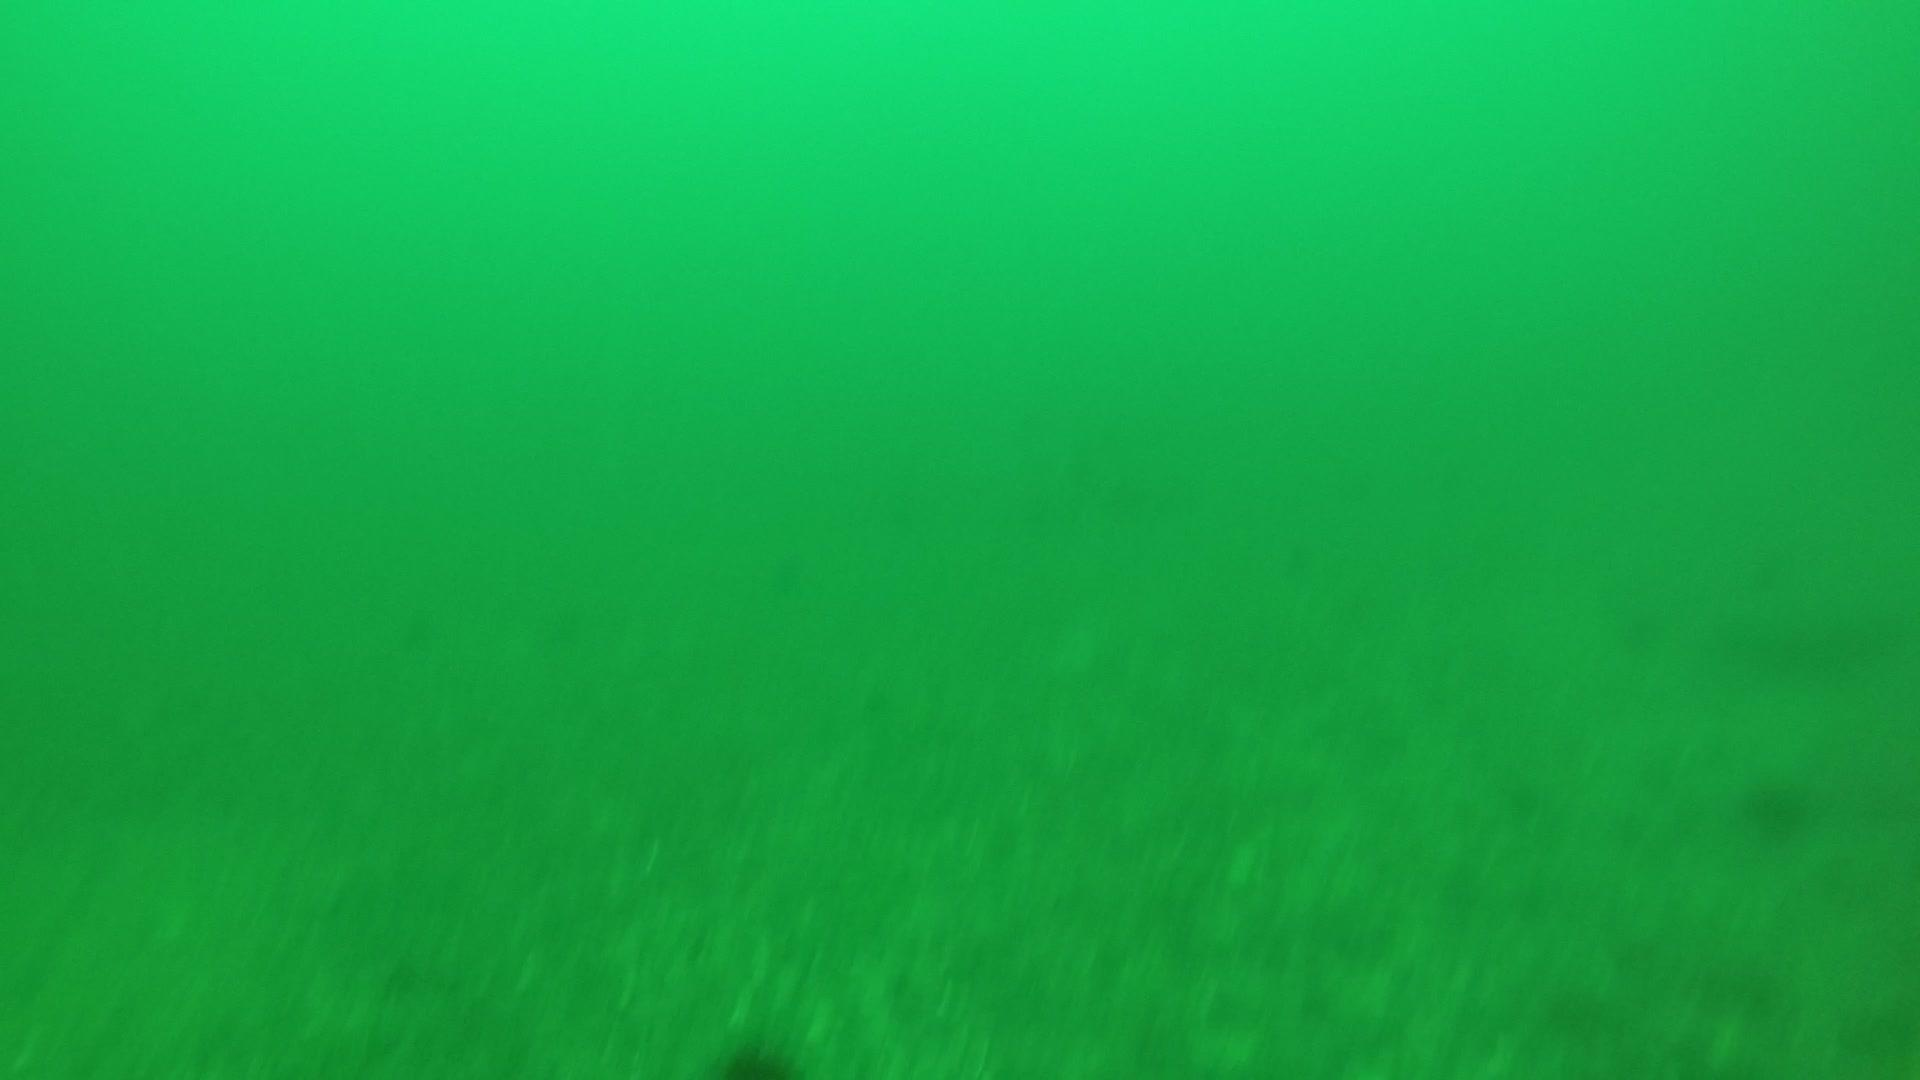echinus: (1735, 767, 1817, 843), (712, 1030, 802, 1077)
